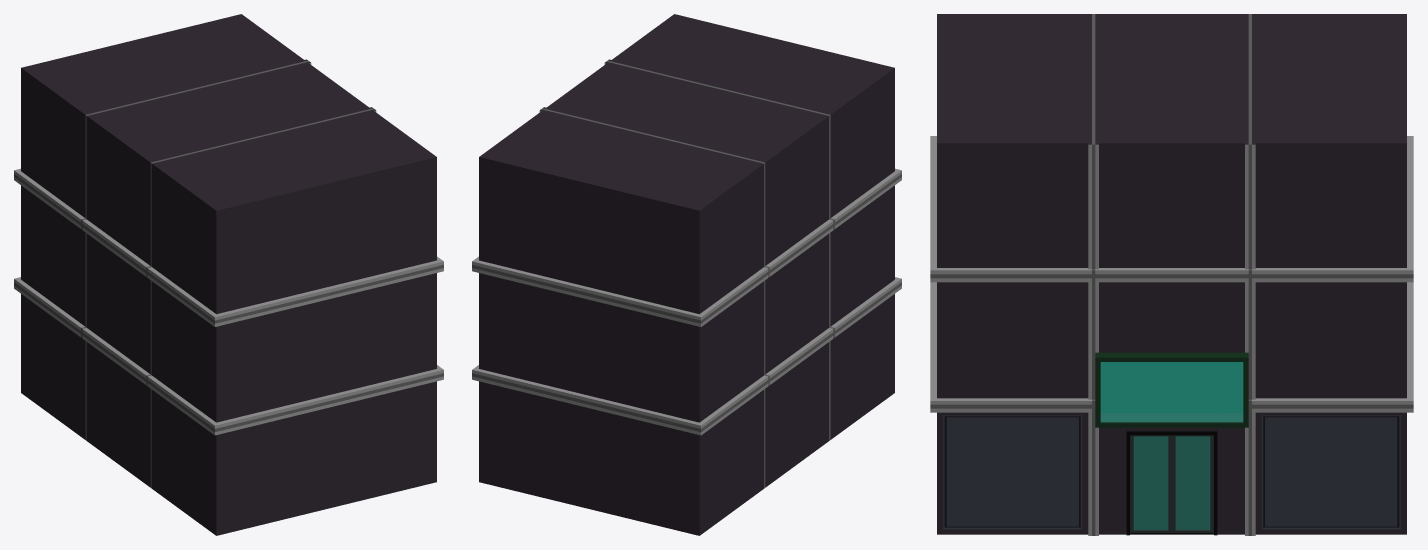
File: PropBuilding_10.fbx
3 renders of one model, left to right at view 1: azimuth 30°, elevation 25°; view 2: azimuth 150°, elevation 25°; view 3: azimuth 270°, elevation 25°, orthographic. The views are drawn at different scales.
Visible parts, largest first — view 1: PropBuilding10; view 2: PropBuilding10; view 3: PropBuilding10, PropBuilding10.001.
Boxes of the visible parts, x1=… form: PropBuilding10: x1=14, y1=14, x2=443, y2=535; PropBuilding10: x1=472, y1=14, x2=901, y2=535; PropBuilding10: x1=930, y1=14, x2=1413, y2=535; PropBuilding10.001: x1=1095, y1=352, x2=1248, y2=532.
Size of the model in its own units: 1568 by 2053 by 2293.
2 materials, 2 textured.
